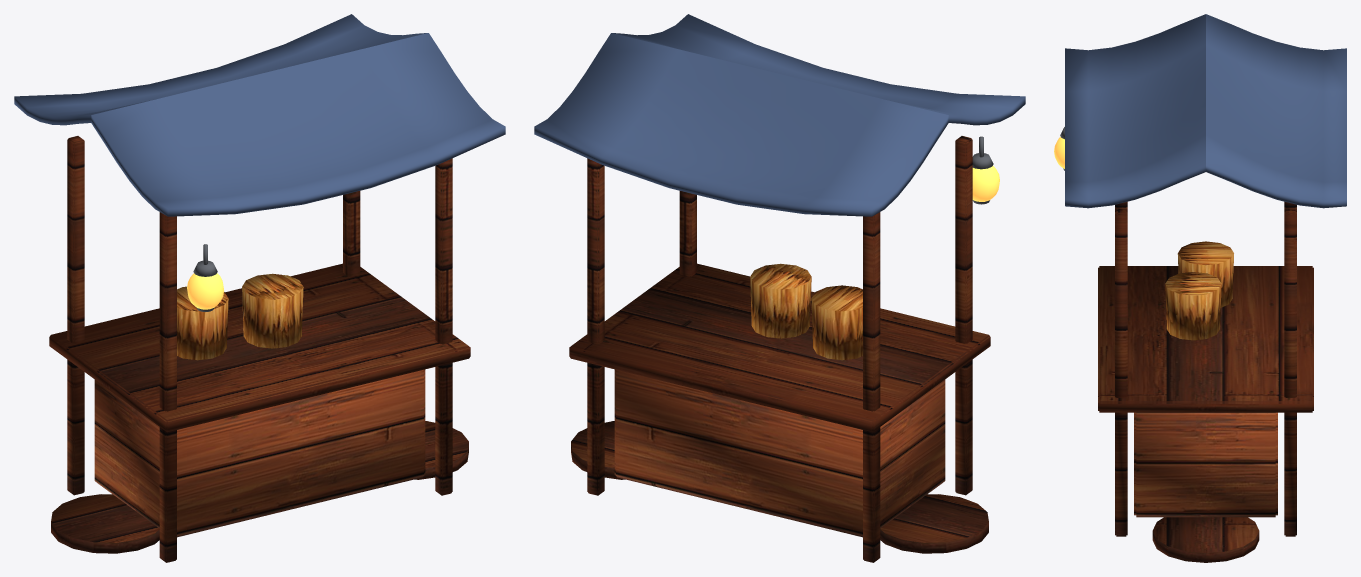
File: yatai_stall_v0.glb
3 renders of one model, left to right at view 1: azimuth 30°, elevation 25°; view 2: azimuth 150°, elevation 25°; view 3: azimuth 270°, elevation 25°, orthographic. The views are drawn at different scales.
Parts seen in each view (by area): view 1: yatai_charred, yatai_cloth, yatai_cedar, yatai_wares, yatai_chochin; view 2: yatai_charred, yatai_cloth, yatai_cedar, yatai_wares, yatai_chochin; view 3: yatai_cloth, yatai_charred, yatai_cedar, yatai_wares.
Part boxes in pixels (x1,y1,x2,y2): yatai_charred: (49,136,470,562); yatai_cloth: (14,14,505,216); yatai_cedar: (94,369,425,537); yatai_wares: (177,273,303,360); yatai_chochin: (187,273,223,309); yatai_charred: (569,136,990,562); yatai_cloth: (534,14,1025,216); yatai_cedar: (614,369,945,537); yatai_wares: (750,263,862,360); yatai_chochin: (972,166,999,201); yatai_cloth: (1065,14,1346,208); yatai_charred: (1098,201,1313,562); yatai_cedar: (1134,412,1277,517); yatai_wares: (1165,241,1233,340).
Bounding box in the file's own units: 2.72 × 2.7 × 1.87.
Materials: 6 (3 with a texture image).
